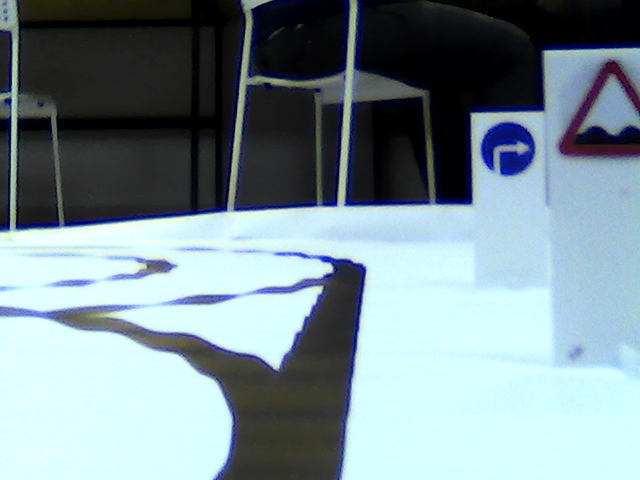Nerov: (558, 57, 640, 157)
Right: (480, 121, 537, 174)
